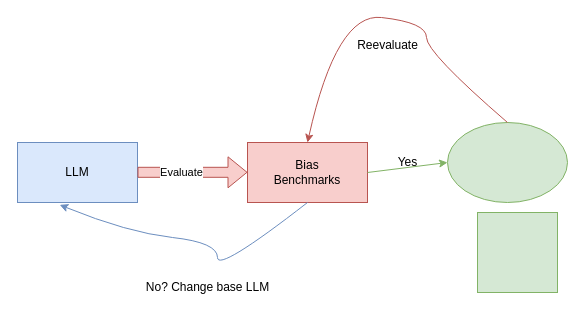
Some shapes in this 585 by 320 pixel diagram are drawn without their labels. Each missing label, with the centre of its shape:
CDA Dropout INLP: (x=517, y=252)
Perform Debiasing Techniques: (x=507, y=162)
